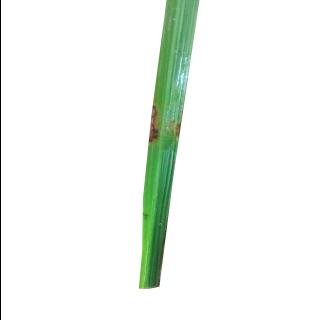Blast: (150, 104, 160, 144)
